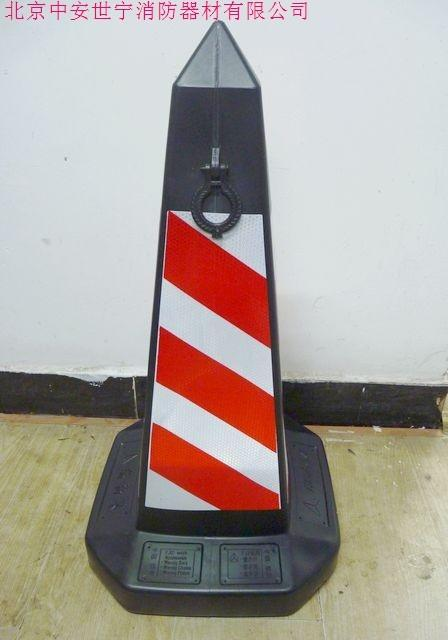cone_barrel: (100, 26, 325, 563)
